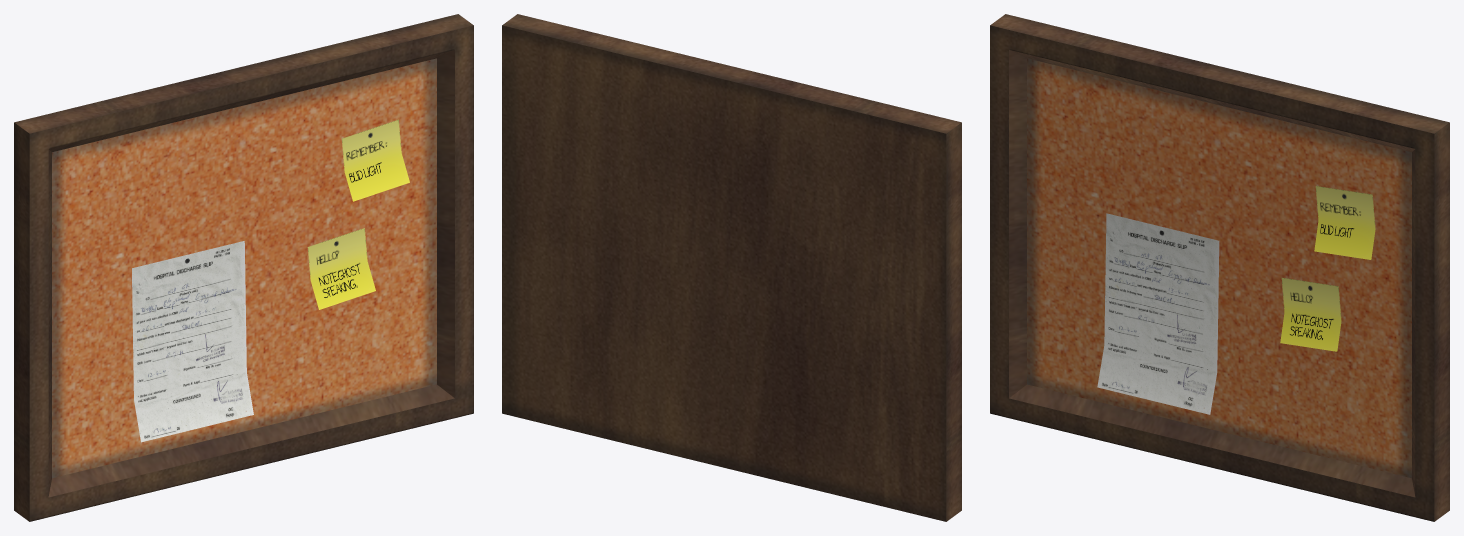
The model's file is Board_mesh.FBX.
3 renders of one model, left to right at view 1: azimuth 30°, elevation 25°; view 2: azimuth 150°, elevation 25°; view 3: azimuth 330°, elevation 25°, orthographic.
Visible parts, largest first — view 1: Board001, Plane002, Plane001, Plane003; view 2: Board001; view 3: Board001, Plane002, Plane003, Plane001.
Part boxes in pixels (bbox=[...]): Board001: bbox=[14, 14, 473, 521]; Plane002: bbox=[132, 241, 253, 442]; Plane001: bbox=[342, 119, 409, 201]; Plane003: bbox=[307, 228, 375, 309]; Board001: bbox=[502, 14, 961, 521]; Board001: bbox=[990, 14, 1449, 521]; Plane002: bbox=[1097, 213, 1219, 414]; Plane003: bbox=[1280, 277, 1341, 351]; Plane001: bbox=[1314, 186, 1375, 259].
Size of the model in its own units: 114 by 94.9 by 7.8.
